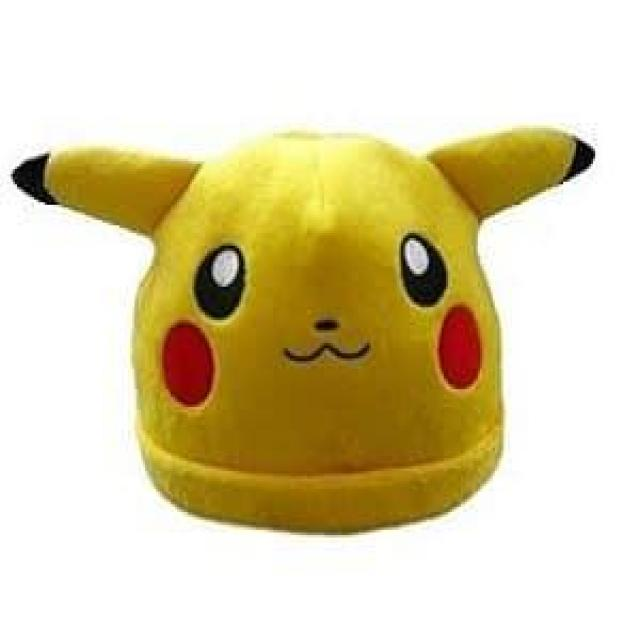pikachu: (11, 122, 594, 476)
